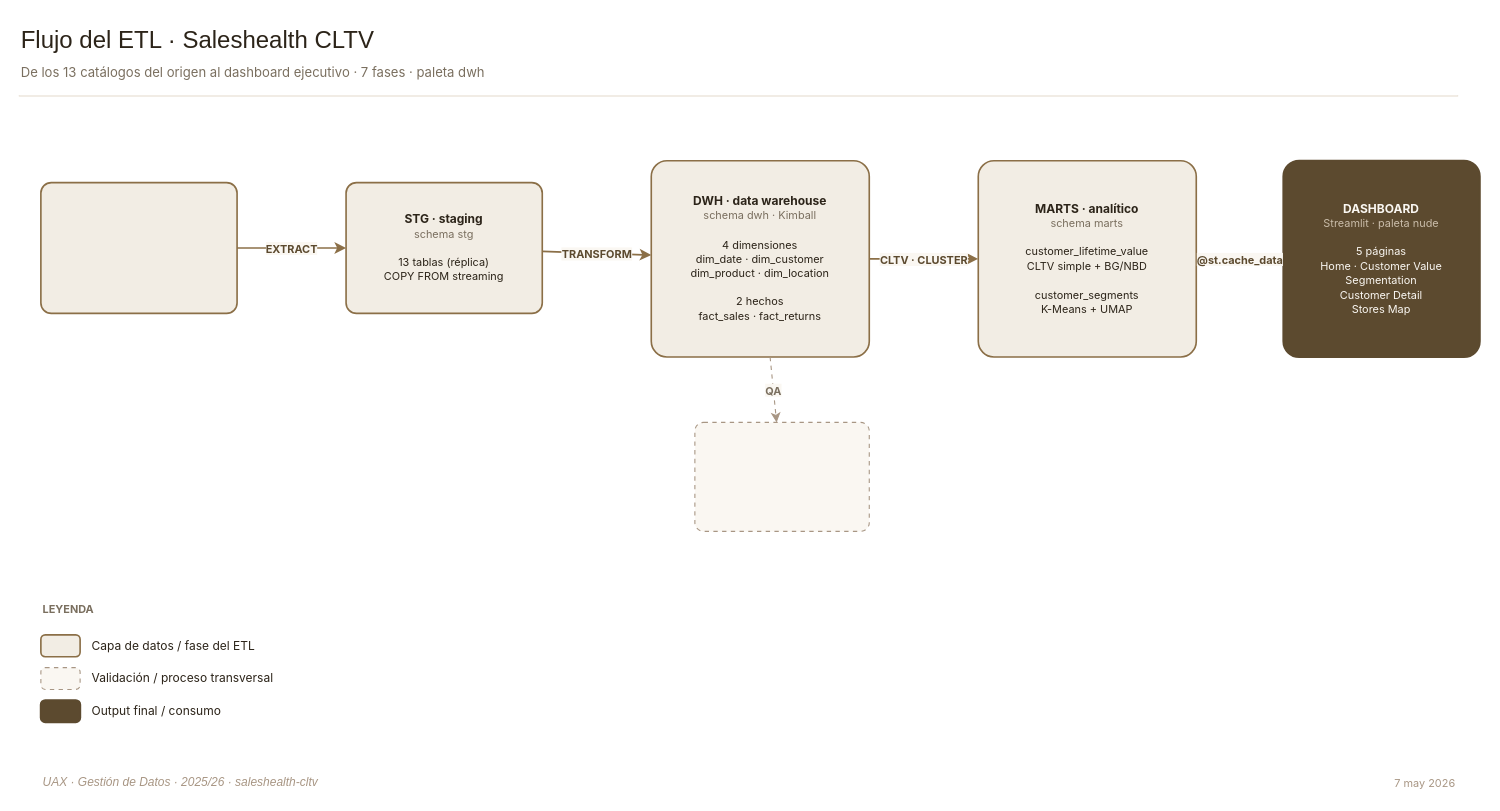
Image size: 1500x811. Some labels were removed from this diagram. Here are the shapes that lost their labels. From the top down, the centre of each, then its label:
the point at 138,247: ORIGEN PostgreSQL · saleshealth 13 tablas ERP · CRM · logística · postventa
the point at 781,476: VALIDATE quality assurance 20 checks counts · integrity business · consistency
